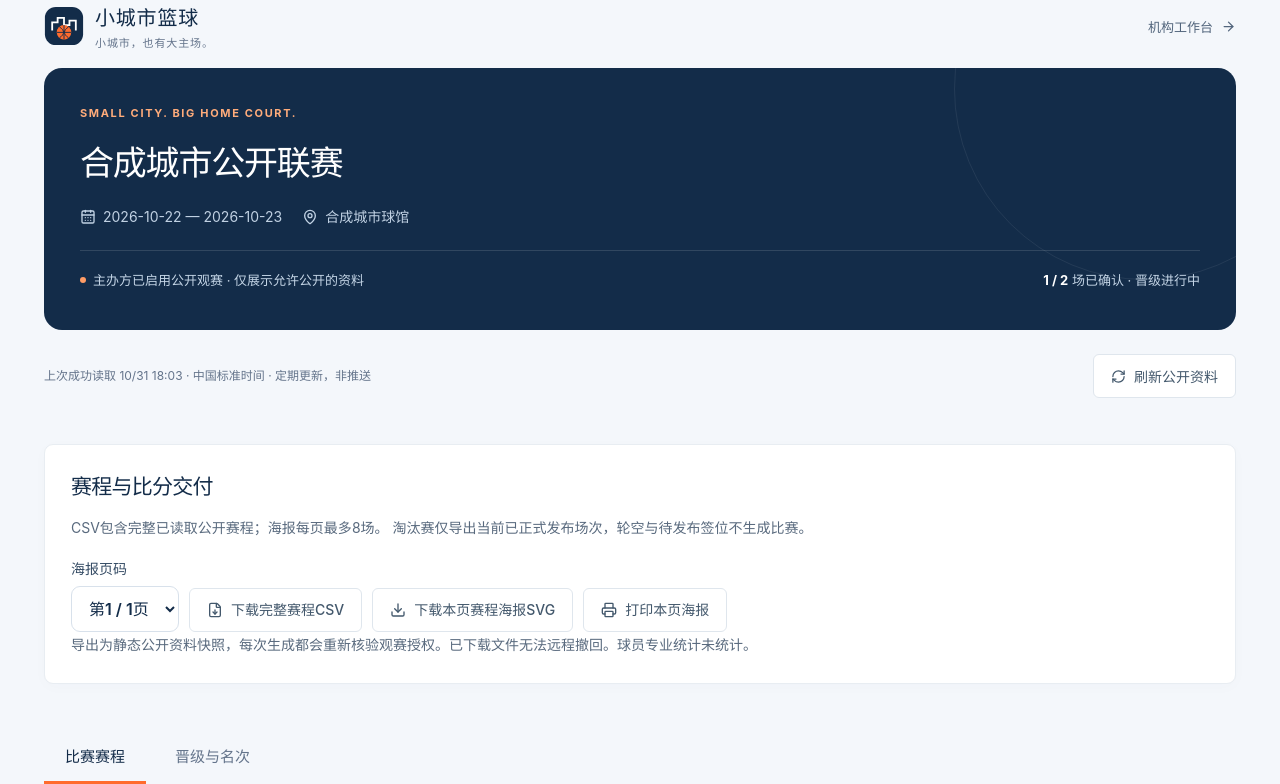
it: anonymous knockout viewing › renders bracket and pending final placings from the public projection without requesting round-robin standings
Check: the heading "合成城市公开联赛" is shown, box [80,142,342,183]
Click the tab "晋级与名次" at (212, 757), box [154,730,271,783]
(page scrolled)
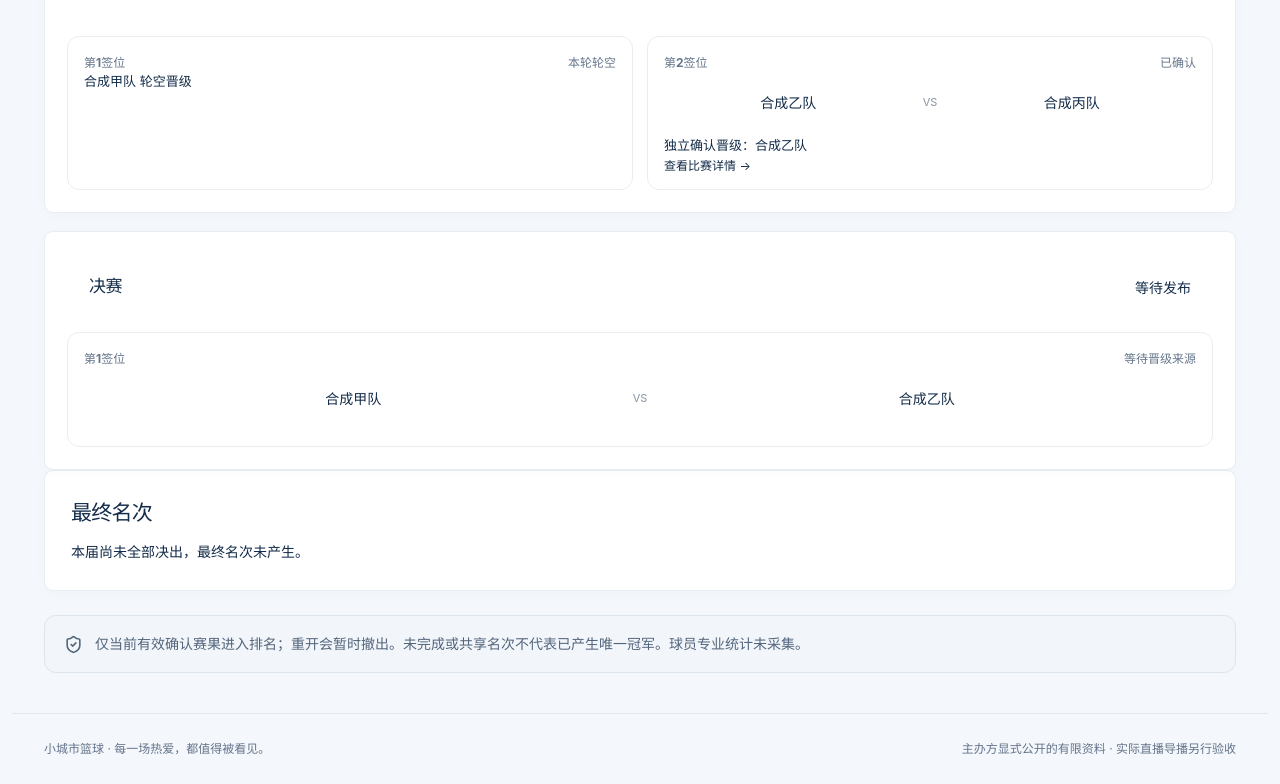
Check: the element named "公开淘汰赛签位" shows "轮空晋级", box [136,73,192,89]
Check: the element named "公开最终名次" shows "最终名次未产生", box [71,544,309,560]
